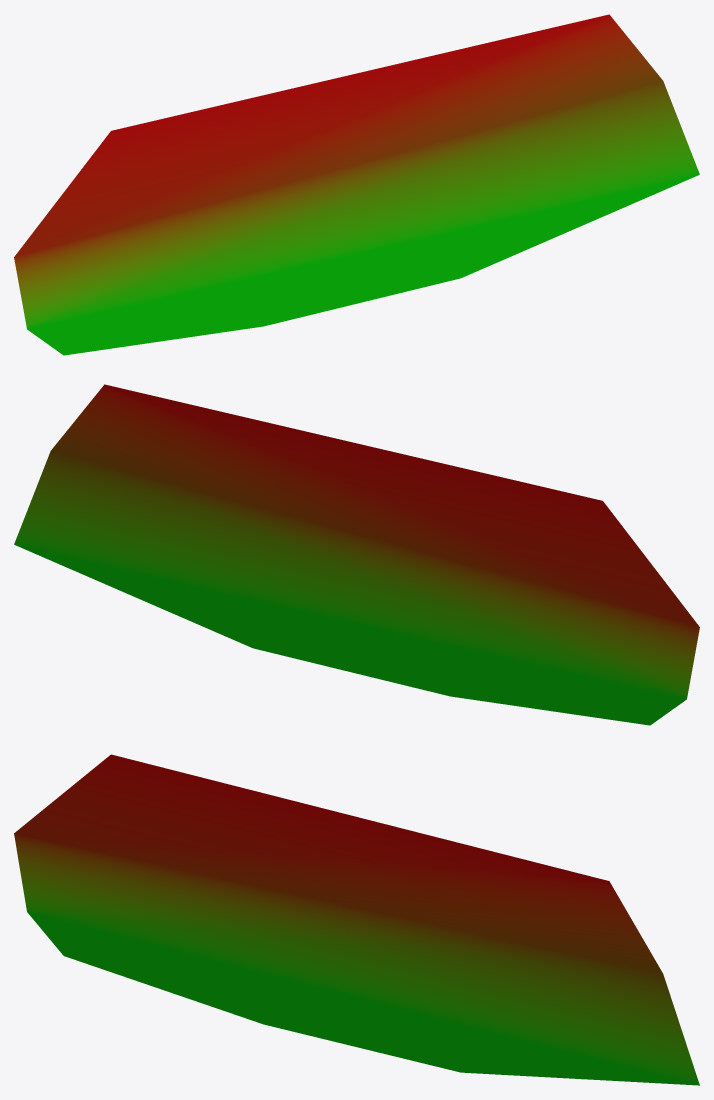
The model's file is Wild Grass_LOD4_Var10_vlkhcbxia.fbx.
The picture shows the model from 3 angles, top to bottom: view 1: azimuth 30°, elevation 25°; view 2: azimuth 150°, elevation 25°; view 3: azimuth 330°, elevation 25°; orthographic projection.
Visible parts, largest first — view 1: _7ddd_Var10_LOD4; view 2: _7ddd_Var10_LOD4; view 3: _7ddd_Var10_LOD4.
Boxes of the visible parts, x1,y1,x2,y2 form: _7ddd_Var10_LOD4: (14,14,699,355); _7ddd_Var10_LOD4: (14,384,699,725); _7ddd_Var10_LOD4: (14,754,699,1085).
Size of the model in its own units: 27.58 by 8.94 by 3.91e-07.
